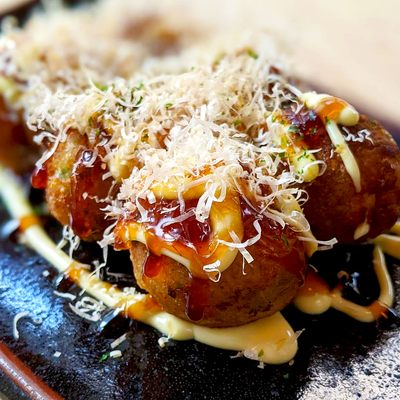sandwich: (12, 20, 399, 345)
